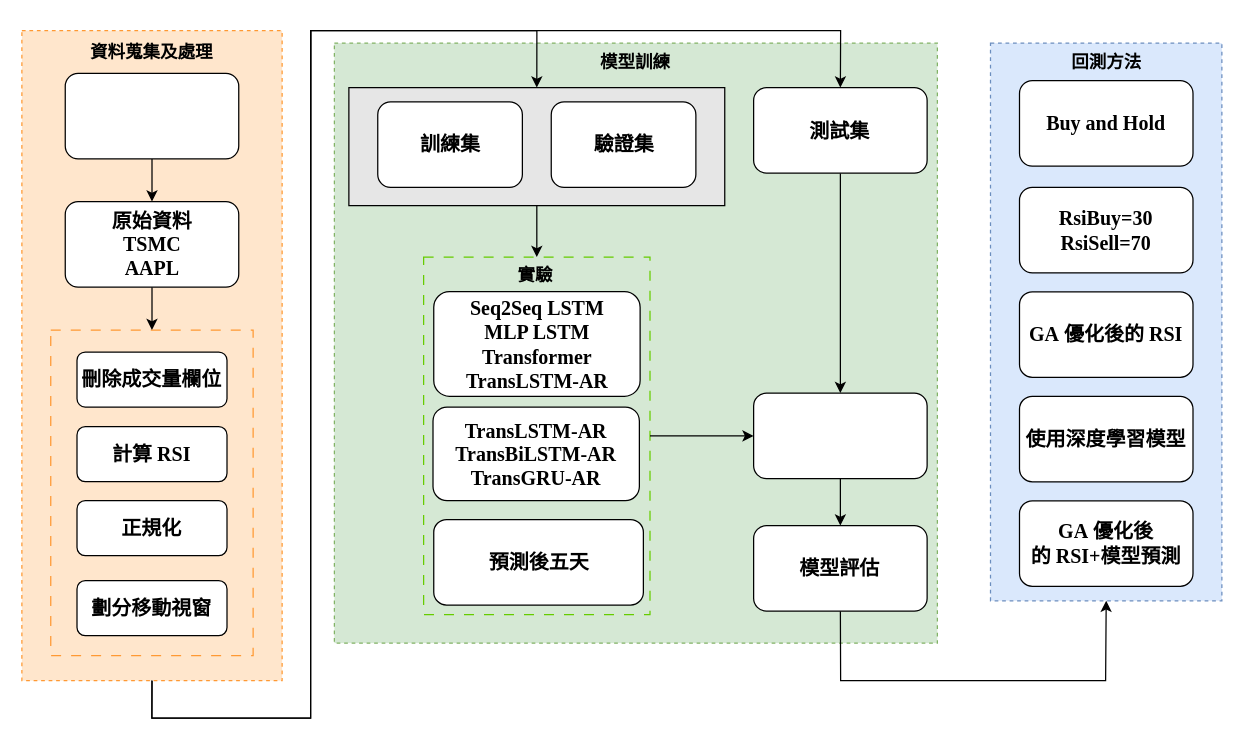
This 1244x750 diagram has some shape labels left out. Here are the shapes that lost their labels. From the top down, the centre of each, then its label:
At pixel 151 115: "Yahoo Finance API".
At pixel 839 435: "模型測試".
